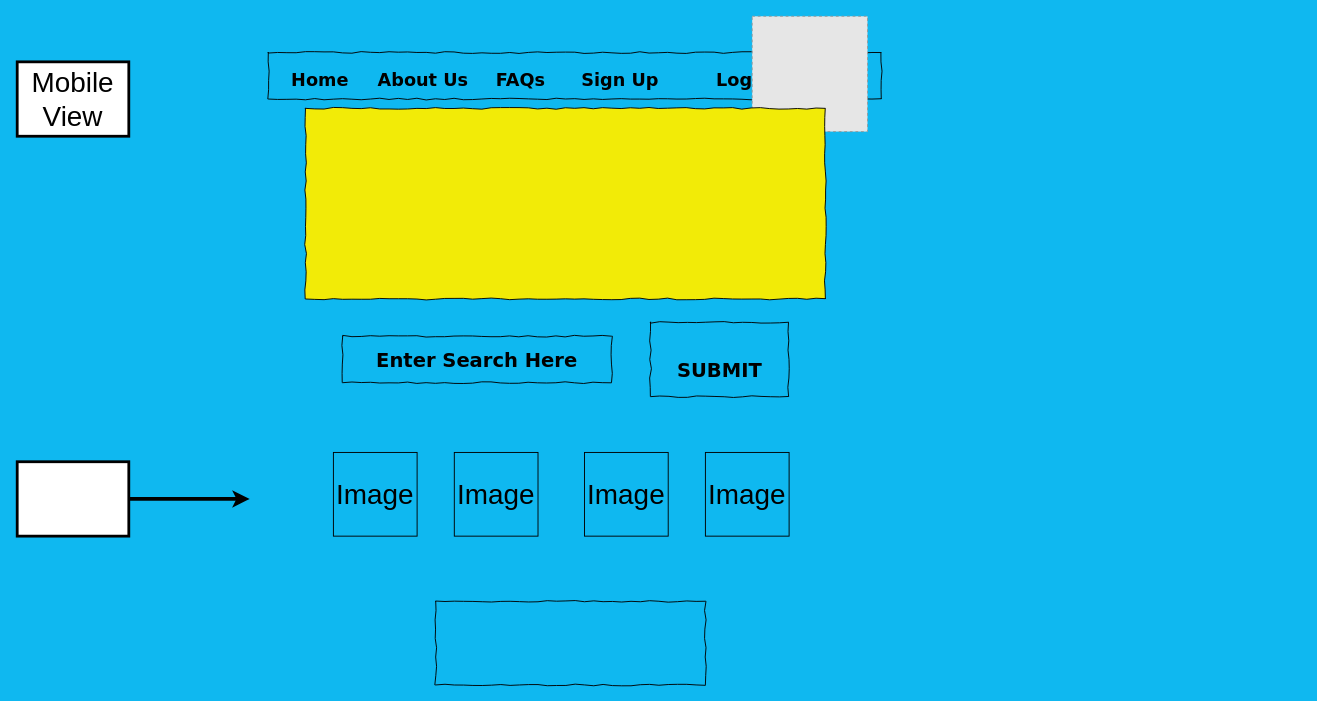
Some shapes in this 1317 by 701 pixel diagram are drawn without their labels. Grey dashed boxes stand in for pictures. The shapes that lost their labels are listed below. From the top down, each one's centre as x and y in pixels, then its label:
At pixel 565 203: "Welcome to your Mobile Search Page".
At pixel 72 498: "Search Results".
At pixel 570 642: "Powered by Giphy".
